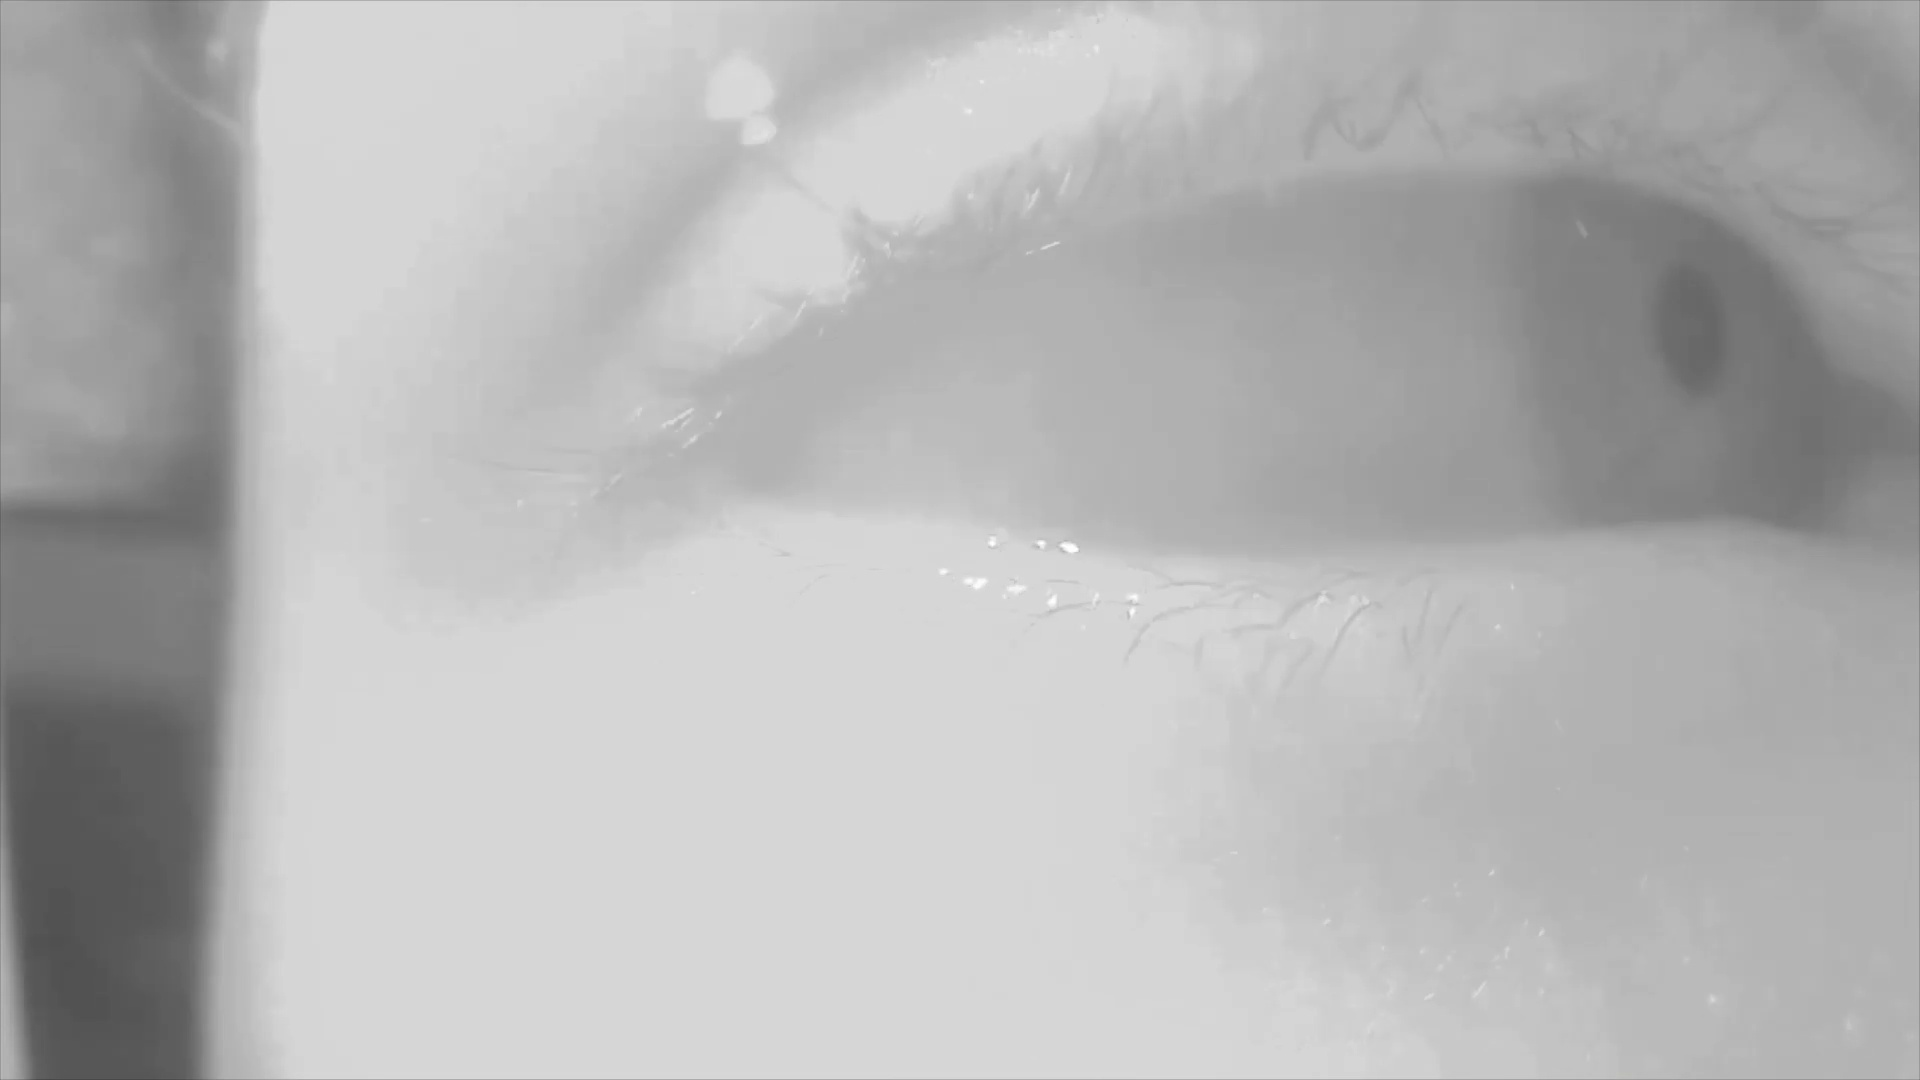pupil: (1649, 263, 1727, 388)
